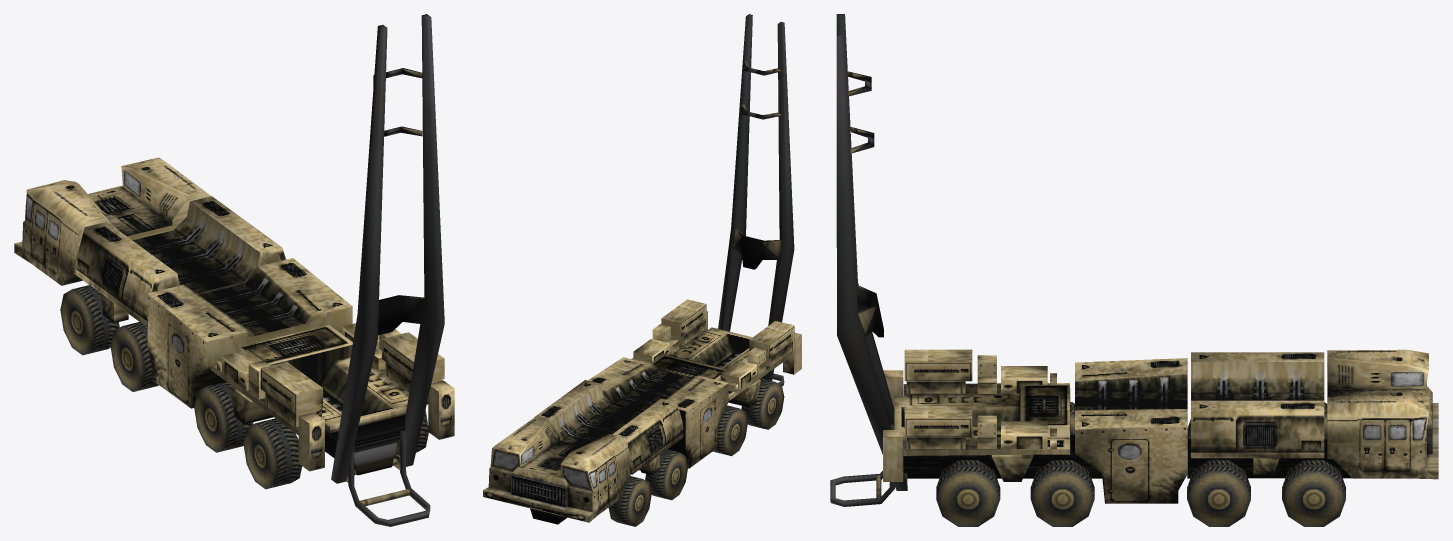
The model's file is SCUDLAUNCHER_FIRING.glb.
3 views of the same model, side by side, from view 1: azimuth 30°, elevation 25°; view 2: azimuth 150°, elevation 25°; view 3: azimuth 270°, elevation 25° (orthographic). The views are drawn at different scales.
Parts seen in each view (by area): view 1: SCUD_BODY, SCUDCRADLE, SCUDLAUNCHERLEFTWHEEL04, SCUDLAUNCHERLEFTWHEEL01, SCUDLAUNCHERLEFTWHEEL03, SCUDLAUNCHERLEFTWHEEL02; view 2: SCUD_BODY, SCUDCRADLE, SCUDLAUNCHERLEFTWHEEL02, SCUDLAUNCHERLEFTWHEEL01, SCUDLAUNCHERLEFTWHEEL04, SCUDLAUNCHERLEFTWHEEL03; view 3: SCUD_BODY, SCUDCRADLE, SCUDLAUNCHERRIGHTWHEEL03, SCUDLAUNCHERRIGHTWHEEL04, SCUDLAUNCHERRIGHTWHEEL01, SCUDLAUNCHERRIGHTWHEEL02.
Part boxes in pixels (left/top/right/bottom): SCUD_BODY: left=14, top=157, right=454, bottom=475; SCUDCRADLE: left=331, top=14, right=444, bottom=526; SCUDLAUNCHERLEFTWHEEL04: left=243, top=418, right=302, bottom=489; SCUDLAUNCHERLEFTWHEEL01: left=60, top=285, right=119, bottom=355; SCUDLAUNCHERLEFTWHEEL03: left=194, top=381, right=253, bottom=452; SCUDLAUNCHERLEFTWHEEL02: left=110, top=322, right=158, bottom=391; SCUD_BODY: left=483, top=299, right=801, bottom=524; SCUDCRADLE: left=718, top=14, right=794, bottom=385; SCUDLAUNCHERLEFTWHEEL02: left=645, top=449, right=687, bottom=500; SCUDLAUNCHERLEFTWHEEL01: left=608, top=476, right=651, bottom=526; SCUDLAUNCHERLEFTWHEEL04: left=741, top=378, right=784, bottom=429; SCUDLAUNCHERLEFTWHEEL03: left=713, top=405, right=747, bottom=456; SCUD_BODY: left=883, top=349, right=1438, bottom=503; SCUDCRADLE: left=830, top=14, right=907, bottom=506; SCUDLAUNCHERRIGHTWHEEL03: left=1030, top=460, right=1094, bottom=526; SCUDLAUNCHERRIGHTWHEEL04: left=936, top=460, right=1000, bottom=526; SCUDLAUNCHERRIGHTWHEEL01: left=1282, top=460, right=1345, bottom=526; SCUDLAUNCHERRIGHTWHEEL02: left=1187, top=460, right=1250, bottom=526.
Bounding box in the file's own units: 5.17 × 16.16 × 19.
Materials: 3 (3 with a texture image).
